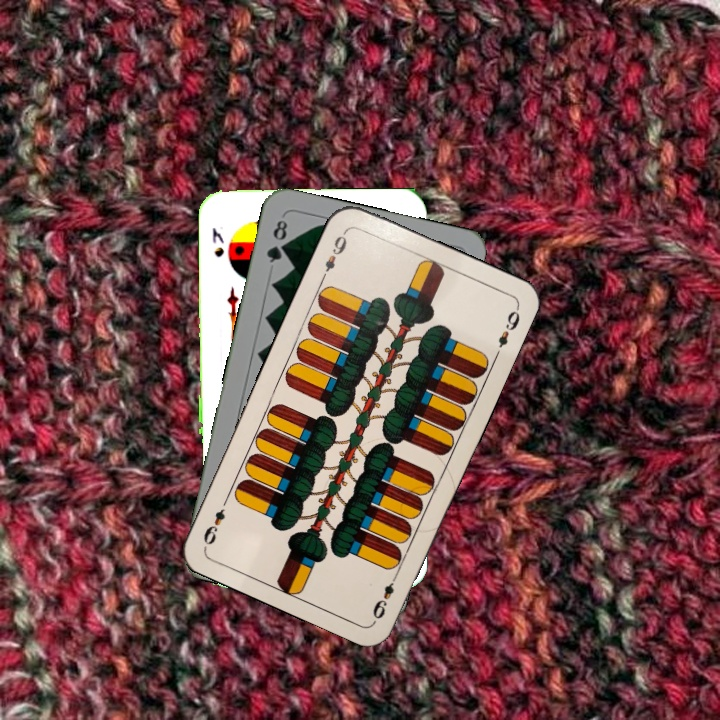E9: (368, 568, 402, 622), (317, 227, 350, 282)
G8: (262, 215, 290, 266)
SK: (208, 224, 226, 260)
